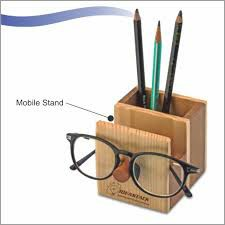pen: (166, 7, 189, 112), (134, 6, 144, 107), (154, 18, 161, 109)
